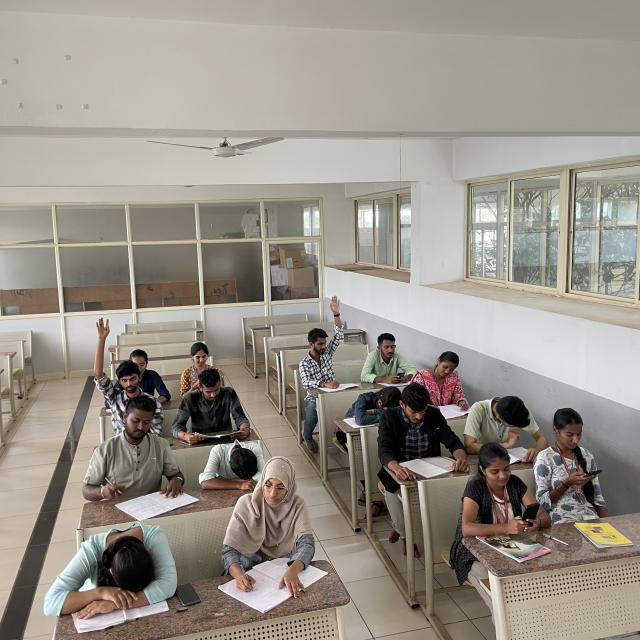Hand Rising: (86, 310, 155, 417), (301, 294, 351, 389)
Reading: (377, 380, 474, 478), (172, 368, 260, 442)
Sleeping: (42, 513, 190, 616), (457, 388, 549, 462), (194, 436, 270, 491), (340, 379, 404, 421)
Using Phone: (532, 399, 617, 510), (451, 435, 540, 536), (361, 331, 421, 389)
Writing: (73, 392, 194, 511), (222, 458, 320, 590)
